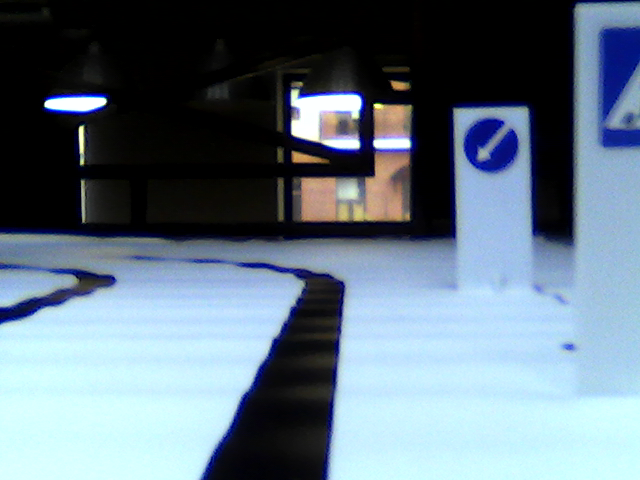prep: (463, 116, 521, 175)
